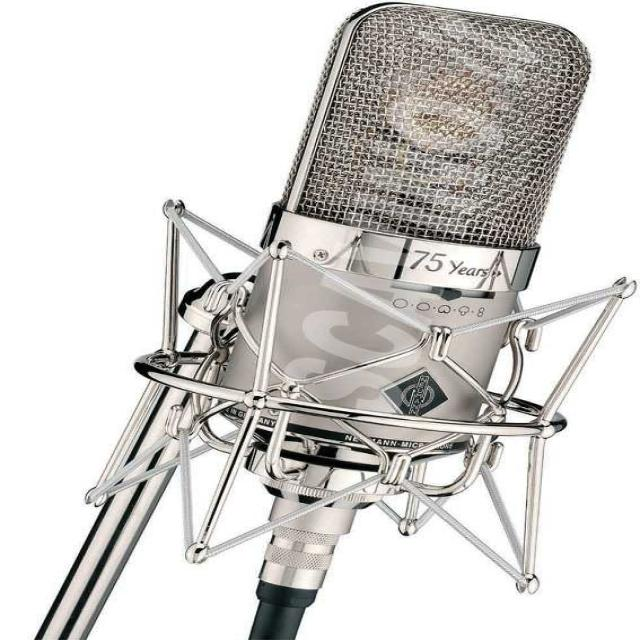microphone: (152, 0, 612, 534)
